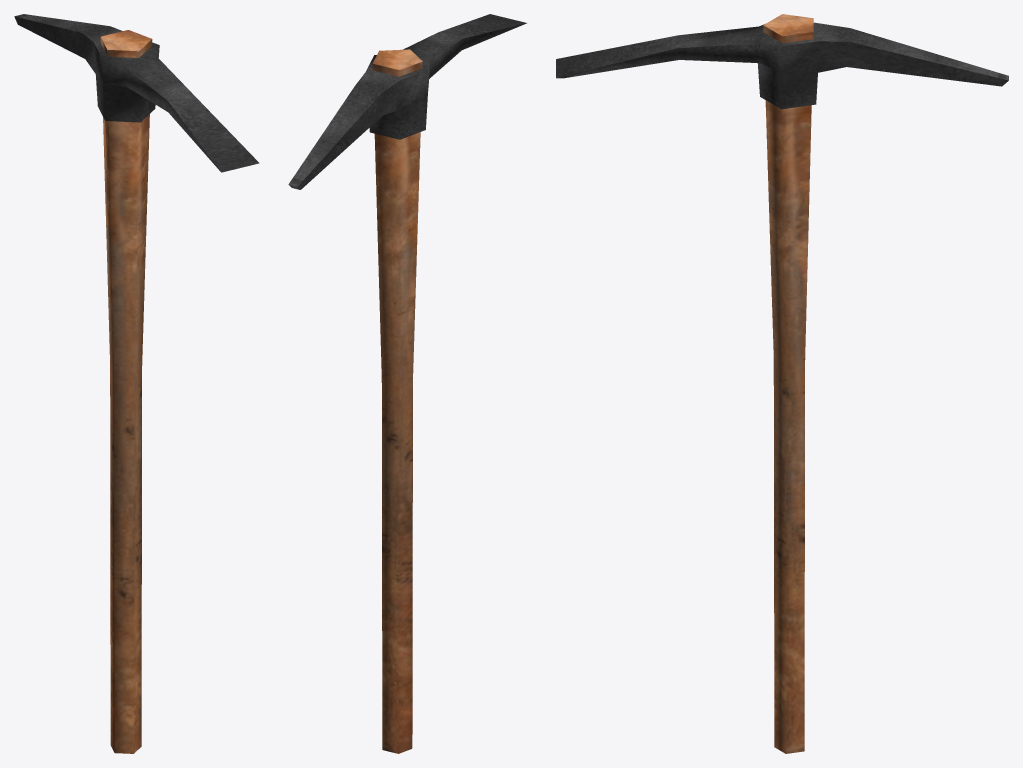
The model's file is Pickaxe.fbx.
3 renders of one model, left to right at view 1: azimuth 30°, elevation 25°; view 2: azimuth 150°, elevation 25°; view 3: azimuth 270°, elevation 25°, orthographic. The views are drawn at different scales.
Visible parts, largest first — view 1: Pickaxe; view 2: Pickaxe; view 3: Pickaxe.
Part boxes in pixels (x1,y1,x2,y2): Pickaxe: [14, 14, 259, 753]; Pickaxe: [288, 14, 526, 753]; Pickaxe: [556, 14, 1008, 753].
Bounding box in the file's own units: 9.82 × 115 × 65.63.
